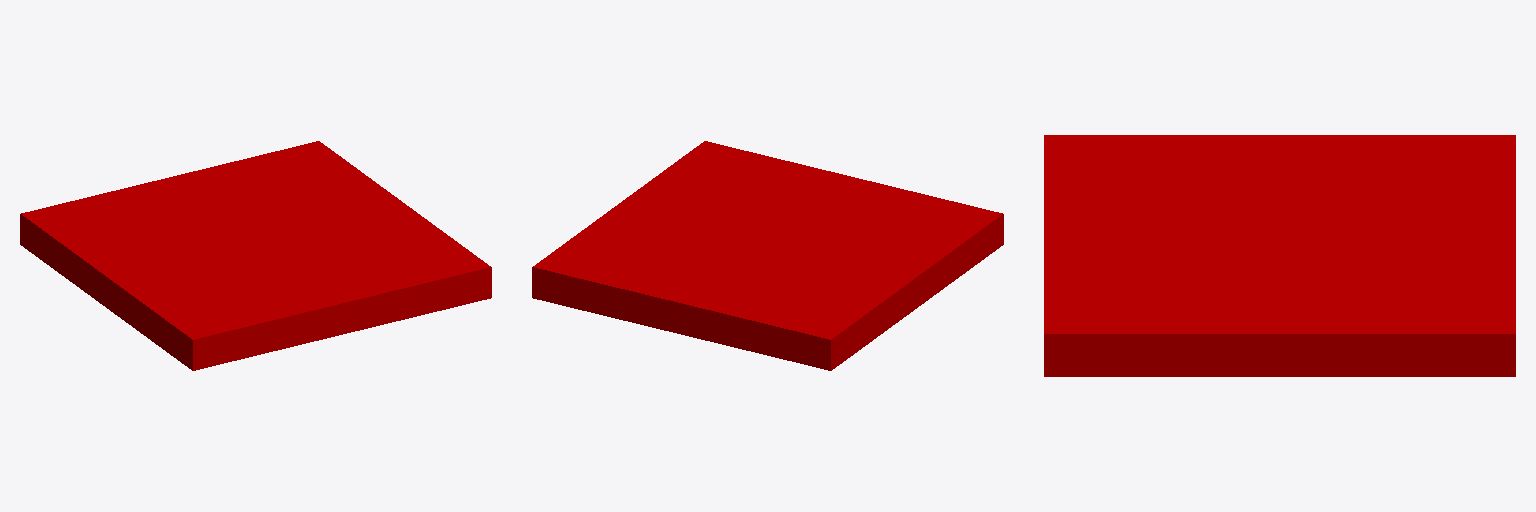
robot.urdf — blocks:
<?xml version="0.0" ?>
<robot name="blocks">
  <link name="global">
    <inertial>
      <origin rpy="0 0 0" xyz="0 0 0"/>
       <mass value="0"/>
       <inertia ixx="0" ixy="0" ixz="0" iyy="0" iyz="0" izz="0"/>
    </inertial>
  </link>
  <link name="block1">
    <contact>
        <lateral_friction value="1"/>
    </contact>
    <inertial>
      <origin rpy="0 0 0" xyz="0 0 0"/>
      <mass value="0.1"/>
      <inertia ixx="0.1" ixy="0" ixz="0" iyy="0.1" iyz="0" izz="0.1"/>
    </inertial>
    <visual>
      <origin rpy="0 0 0" xyz="0 0 -0.1"/>
      <geometry>
        <box size="2 2 0.2"/>
      </geometry>
      <material name="red">
        <color rgba="0.8 0 0 1"/>
      </material>
    </visual>
    <collision>
      <origin rpy="0 0 0" xyz="0 0 -0.1"/>
      <geometry>
        <box size="2 2 0.2"/>
      </geometry>
    </collision>
  </link>
  <joint name="block1_joint" type="prismatic">
    <parent link="global"/>
    <child link="block1" />
    <axis xyz="0 0 1"/>
    <dynamics spring_refernce="0" spring_stiffness="[number redacted]" friction="0" damping="0"/>
    <limit effort="100000" lower="-0.1" upper="0.1" velocity="5"/>
  </joint>
</robot>

--- What the picture shows (computed from the rendered views, not written in the file) ---
The picture shows the robot from 3 angles, left to right: view 1: azimuth 30°, elevation 25°; view 2: azimuth 150°, elevation 25°; view 3: azimuth 270°, elevation 25°; orthographic projection.
Robot: blocks — 2 links, 1 joints (1 prismatic); root link global; default pose: every joint at zero.
Links seen in each view (by area): view 1: block1; view 2: block1; view 3: block1.
Boxes of the visible links, <box> form: block1: <box>20,141,491,370</box>; block1: <box>532,141,1003,370</box>; block1: <box>1044,135,1515,376</box>.
Bounding box of the posed robot: 2 × 2 × 0.2 m (x, y, z).
Geometry: primitives only (box / cylinder / sphere), no mesh files.